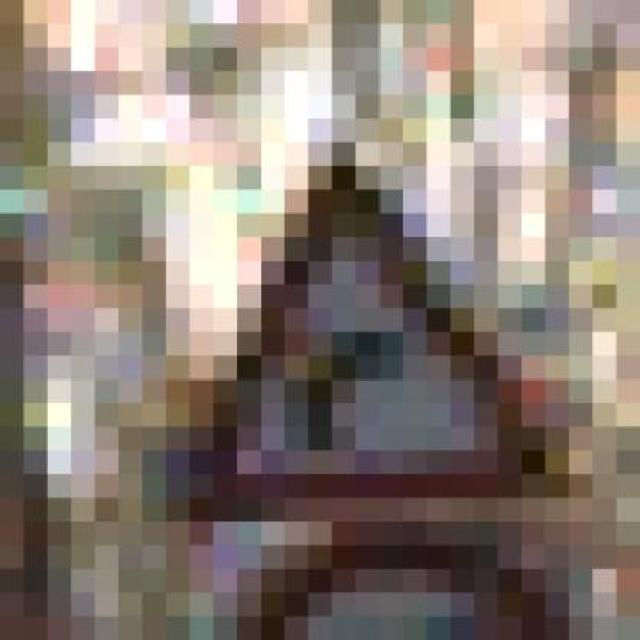Dangerous Rright Curve Ahead: (165, 119, 593, 522)
